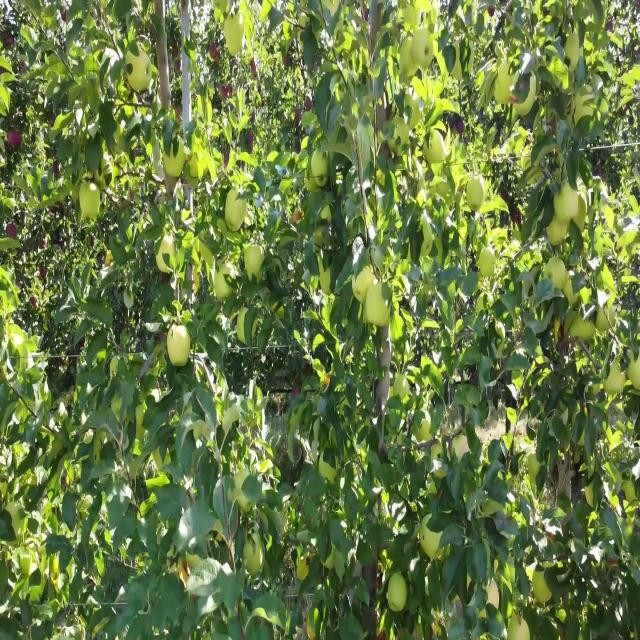apple: (512, 78, 537, 119), (224, 191, 248, 233), (168, 327, 192, 368), (128, 56, 152, 92), (368, 291, 392, 327), (352, 263, 375, 300), (556, 184, 576, 222), (80, 184, 101, 219), (548, 213, 568, 249), (216, 263, 235, 300), (164, 143, 184, 178), (468, 177, 487, 213), (244, 248, 264, 281), (8, 327, 27, 354), (208, 149, 223, 181), (164, 234, 178, 268), (228, 28, 244, 57), (576, 191, 588, 229), (552, 263, 567, 293), (188, 156, 205, 180), (8, 127, 24, 149), (628, 362, 640, 391), (308, 611, 320, 639), (164, 177, 179, 199), (216, 7, 231, 28), (180, 561, 190, 588), (156, 248, 168, 270), (124, 99, 136, 121), (192, 234, 201, 263), (96, 170, 107, 192), (112, 398, 122, 418), (8, 220, 17, 242), (184, 234, 195, 251), (284, 21, 292, 43), (124, 106, 135, 121), (268, 149, 279, 164), (308, 177, 319, 192), (460, 220, 468, 240), (213, 42, 220, 62), (324, 371, 332, 388), (188, 49, 197, 64), (180, 213, 191, 224), (176, 106, 184, 121), (456, 120, 464, 135), (156, 7, 164, 21), (8, 35, 16, 48), (112, 170, 117, 190), (608, 561, 620, 569), (108, 255, 115, 268), (196, 270, 200, 290), (120, 177, 128, 187), (32, 298, 38, 311), (40, 270, 48, 279), (296, 391, 300, 398)
